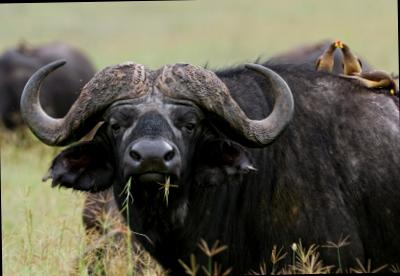Buffalo: (21, 16, 400, 267)
